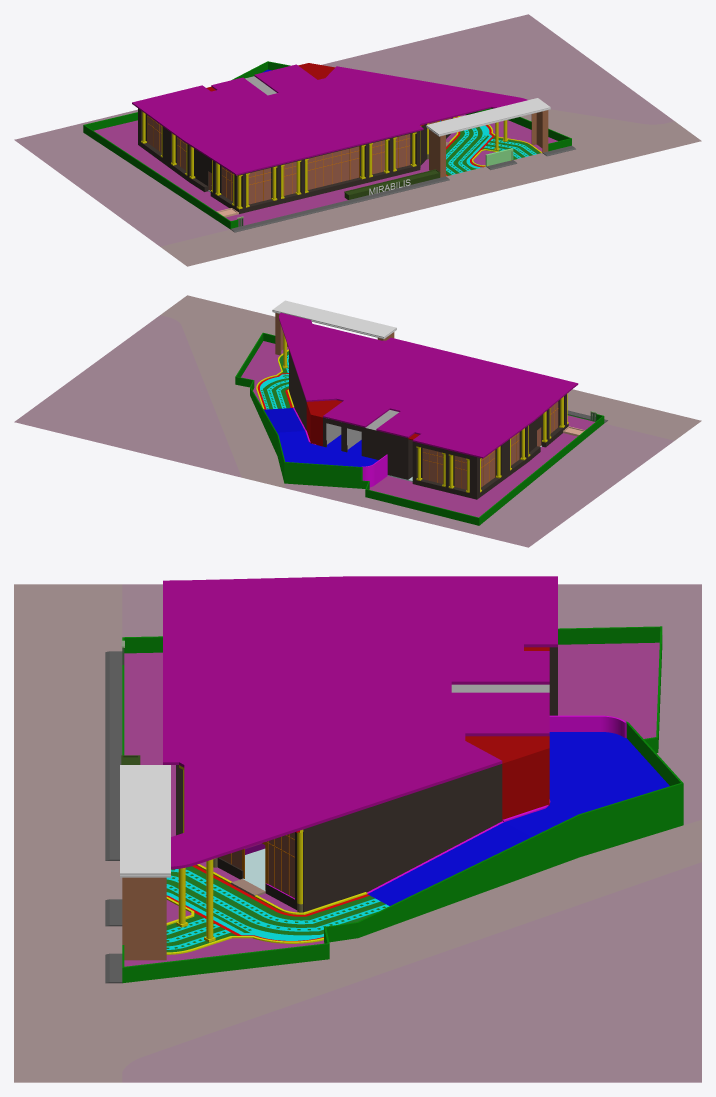
The model's file is OM_Ground Floor.fbx.
The picture shows the model from 3 angles, top to bottom: view 1: azimuth 30°, elevation 25°; view 2: azimuth 150°, elevation 25°; view 3: azimuth 270°, elevation 25°; orthographic projection. The views are drawn at different scales.
Parts seen in each view (by area): view 1: OM_Gfloor_Outer_Ground, OM_Gfloor_Roof, OM_Gfloor_Outer_Road, OM_Gfloor_Garden_Area, OM_Gfloor_Compound, OM_Gfloor_Main_Wall, OM_Gfloor_Pillars (×2), OM_Gfloor_Glass_02, OM_Gfloor_Glass, OM_Gfloor_Car_Pathway, OM_Gfloor_Main_Wall1, OM_Gfloor_Arch_design_Top (+3 smaller); view 2: OM_Gfloor_Outer_Ground, OM_Gfloor_Roof, OM_Gfloor_Outer_Road, OM_Gfloor_Compound, OM_Gfloor_Garden_Area, OM_Gfloor_Car_Pathway, OM_Gfloor_Main_Wall1, OM_Gfloor_Main_Wall, OM_Gfloor_Arch_design_Top, OM_Gfloor_Pillars (×2), OM_Gfloor_Glass_02, OM_Gfloor_Glass (+1 smaller); view 3: OM_Gfloor_Roof, OM_Gfloor_Outer_Ground, OM_Gfloor_Outer_Road, OM_Gfloor_Car_Pathway, OM_Gfloor_Compound, OM_Gfloor_Garden_Area, OM_Gfloor_Main_Wall1, OM_Gfloor_Main_Wall, OM_Gfloor_Arch_design_Top, OM_Gfloor_Footpath, Roof_Cover, OM_Gfloor_Arch_design_Pillars (+3 smaller).
Part boxes in pixels (x1,y1,x2,y2): OM_Gfloor_Outer_Ground: [14, 14, 674, 246]; OM_Gfloor_Roof: [132, 64, 527, 175]; OM_Gfloor_Outer_Road: [160, 109, 701, 266]; OM_Gfloor_Garden_Area: [94, 114, 557, 226]; OM_Gfloor_Compound: [83, 61, 571, 229]; OM_Gfloor_Main_Wall: [138, 117, 452, 213]; OM_Gfloor_Pillars (×2): [141, 111, 508, 209]; OM_Gfloor_Glass_02: [147, 118, 450, 204]; OM_Gfloor_Glass: [147, 115, 443, 188]; OM_Gfloor_Car_Pathway: [262, 69, 540, 175]; OM_Gfloor_Main_Wall1: [138, 76, 426, 192]; OM_Gfloor_Arch_design_Top: [426, 98, 550, 136]; OM_Gfloor_Outer_Ground: [14, 315, 674, 547]; OM_Gfloor_Roof: [279, 313, 578, 458]; OM_Gfloor_Outer_Road: [160, 295, 701, 488]; OM_Gfloor_Compound: [235, 332, 604, 525]; OM_Gfloor_Garden_Area: [241, 341, 594, 517]; OM_Gfloor_Car_Pathway: [257, 351, 387, 487]; OM_Gfloor_Main_Wall1: [289, 350, 566, 479]; OM_Gfloor_Main_Wall: [289, 372, 568, 499]; OM_Gfloor_Arch_design_Top: [272, 300, 396, 339]; OM_Gfloor_Pillars (×2): [282, 333, 568, 492]; OM_Gfloor_Glass_02: [422, 412, 558, 489]; OM_Gfloor_Glass: [422, 401, 558, 474]; OM_Gfloor_Roof: [163, 576, 557, 869]; OM_Gfloor_Outer_Ground: [122, 584, 701, 1082]; OM_Gfloor_Outer_Road: [14, 584, 701, 1082]; OM_Gfloor_Car_Pathway: [166, 715, 669, 952]; OM_Gfloor_Compound: [121, 626, 683, 983]; OM_Gfloor_Garden_Area: [124, 642, 659, 966]; OM_Gfloor_Main_Wall1: [176, 647, 557, 873]; OM_Gfloor_Main_Wall: [176, 691, 557, 912]; OM_Gfloor_Arch_design_Top: [120, 765, 170, 877]; OM_Gfloor_Footpath: [105, 651, 122, 983]; Roof_Cover: [465, 647, 549, 819]; OM_Gfloor_Arch_design_Pillars: [122, 877, 166, 960].
Size of the model in its own units: 279 by 23.17 by 163.
